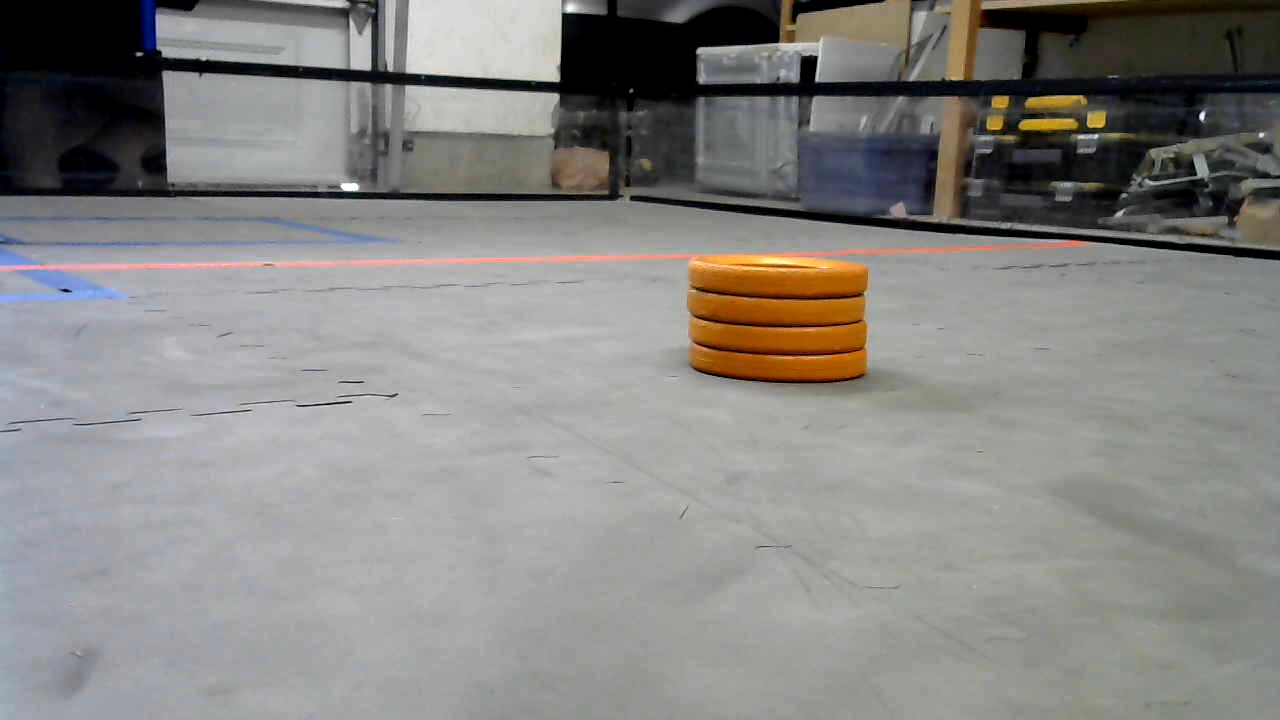FourStack: (689, 257, 870, 382)
